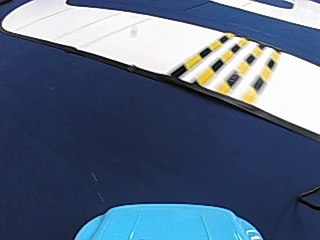bump: (172, 29, 277, 97)
